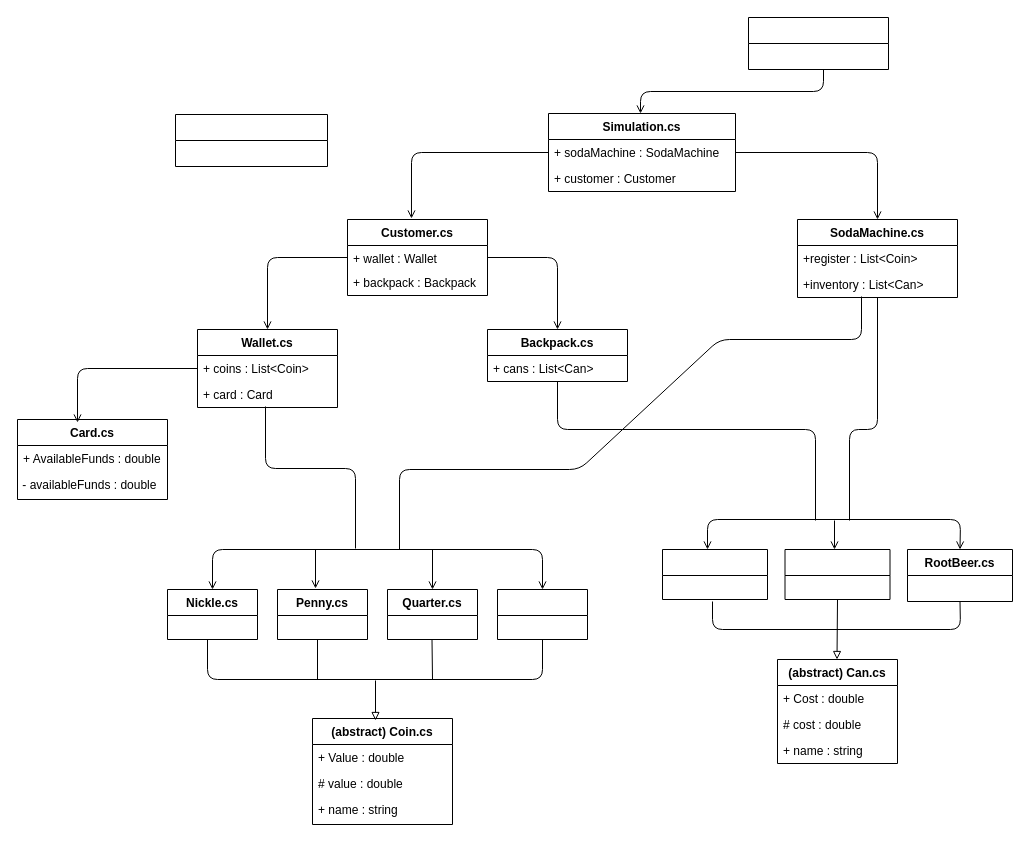
Some shapes in this 1030 by 845 pixel diagram are drawn without their labels. Here are the shapes that lost their labels. From the top down, the centre of each, then its label:
At point (818, 43): "Program.cs".
At point (251, 140): "(static) UserInterface.cs".
At point (715, 574): "Cola.cs".
At point (837, 574): "OrangeSoda.cs".
At point (542, 614): "Dime.cs".
